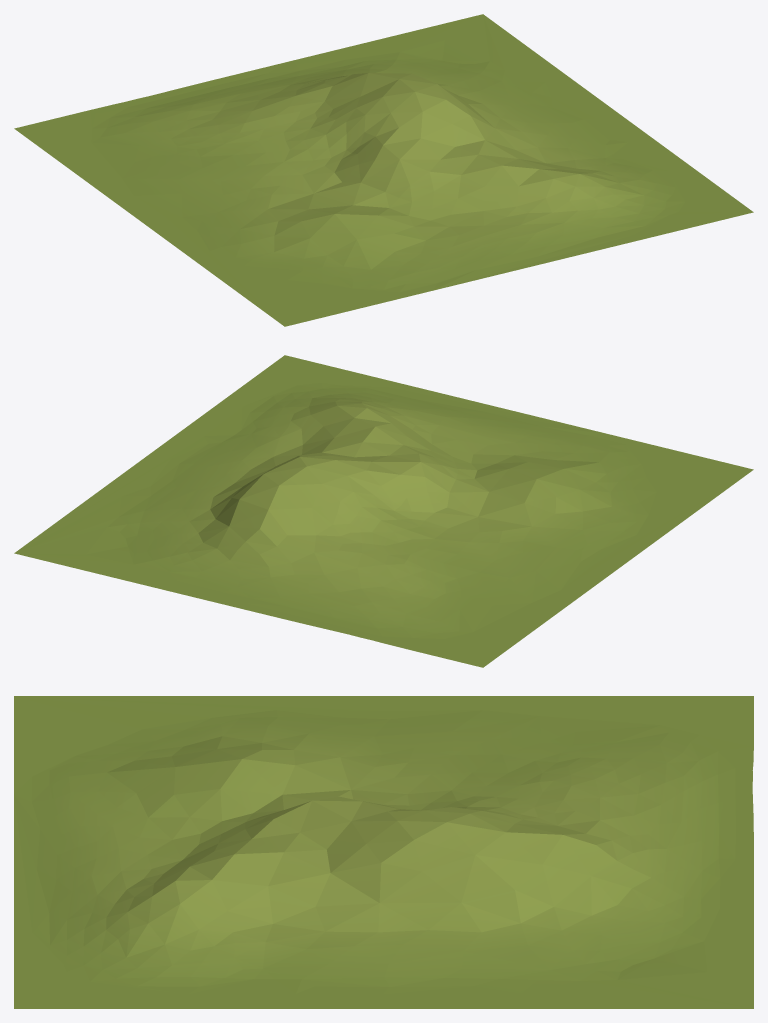
The model's file is Terrain_09.fbx.
The picture shows the model from 3 angles, top to bottom: view 1: azimuth 30°, elevation 25°; view 2: azimuth 150°, elevation 25°; view 3: azimuth 270°, elevation 25°; orthographic projection. The views are drawn at different scales.
Parts seen in each view (by area): view 1: Terrain_09; view 2: Terrain_09; view 3: Terrain_09.
Part boxes in pixels (x1,y1,x2,y2): Terrain_09: [14, 14, 753, 326]; Terrain_09: [14, 355, 753, 667]; Terrain_09: [14, 696, 753, 1008].
Bounding box in the file's own units: 128 × 12.92 × 128.
